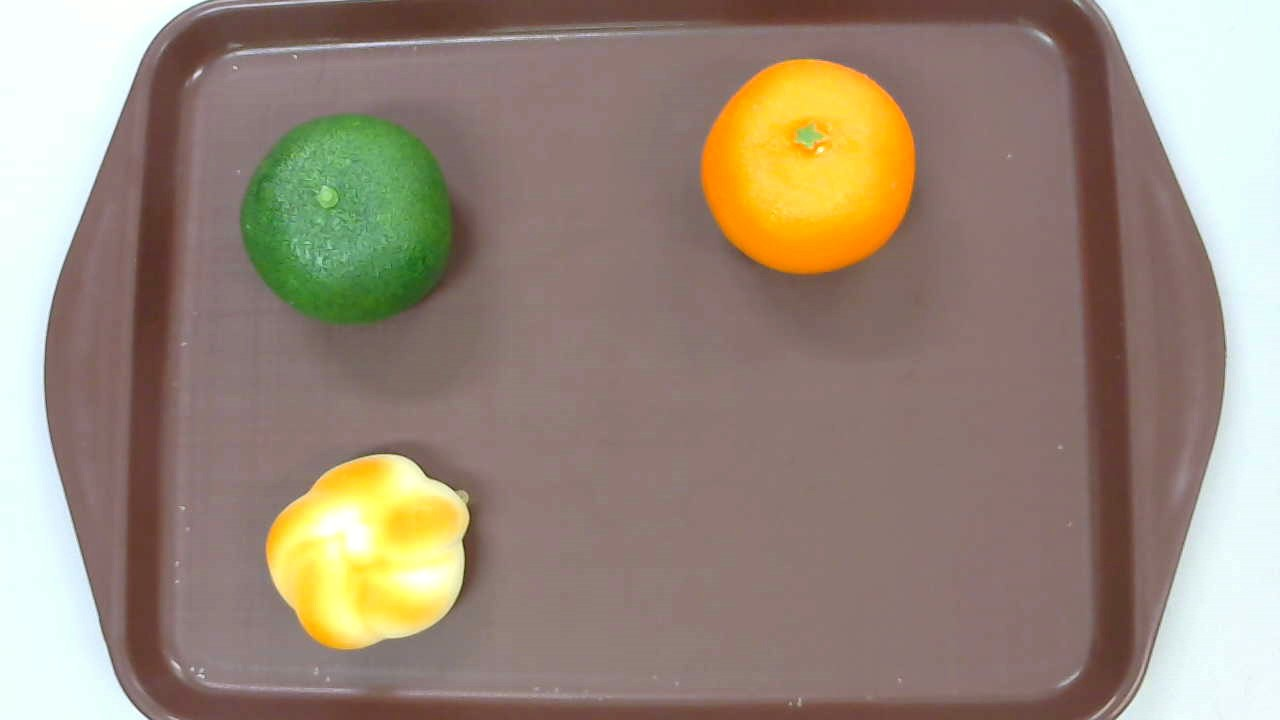green orange: (239, 114, 453, 324)
orange: (701, 59, 914, 276)
twist bread: (266, 453, 470, 650)
